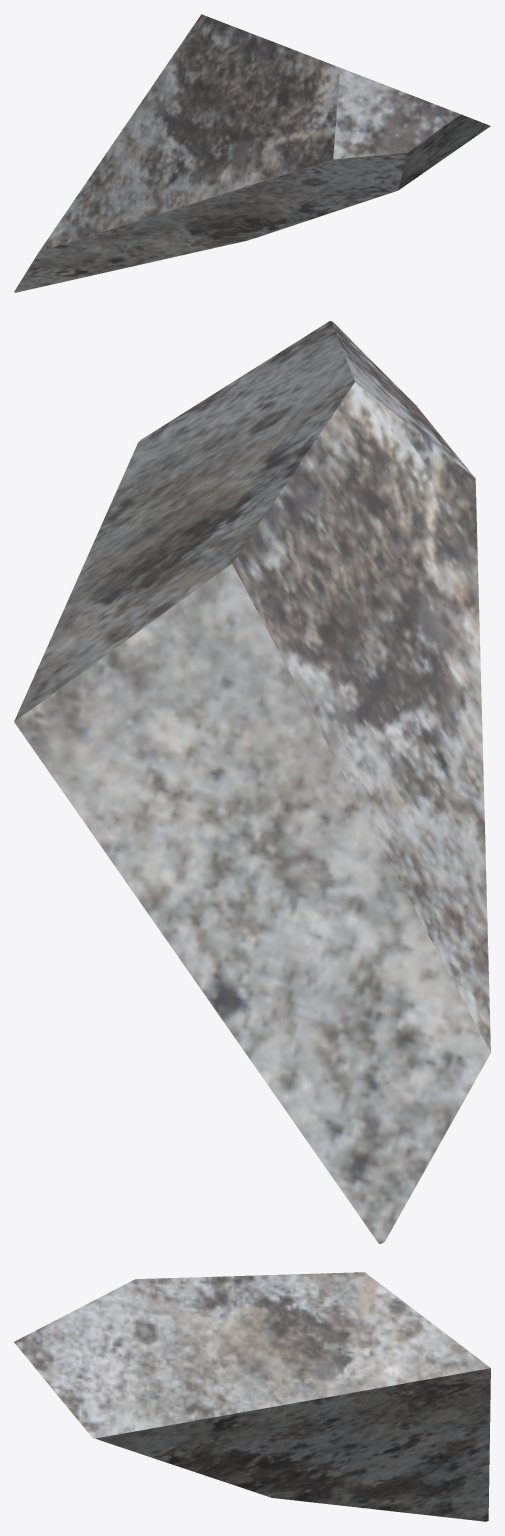
Rendered from Asteroid_Large_001_02_008_03_033.fbx.
3 views of the same model, one above another, from view 1: azimuth 30°, elevation 25°; view 2: azimuth 150°, elevation 25°; view 3: azimuth 270°, elevation 25° (orthographic). The views are drawn at different scales.
Visible parts, largest first — view 1: Asteroid_Large_001_02_008_03_033; view 2: Asteroid_Large_001_02_008_03_033; view 3: Asteroid_Large_001_02_008_03_033.
Boxes of the visible parts, bbox=[...] form: Asteroid_Large_001_02_008_03_033: bbox=[14, 14, 490, 292]; Asteroid_Large_001_02_008_03_033: bbox=[14, 321, 490, 1243]; Asteroid_Large_001_02_008_03_033: bbox=[14, 1272, 490, 1521].
Bounding box in the file's own units: 7.08 × 6.33 × 8.15.
